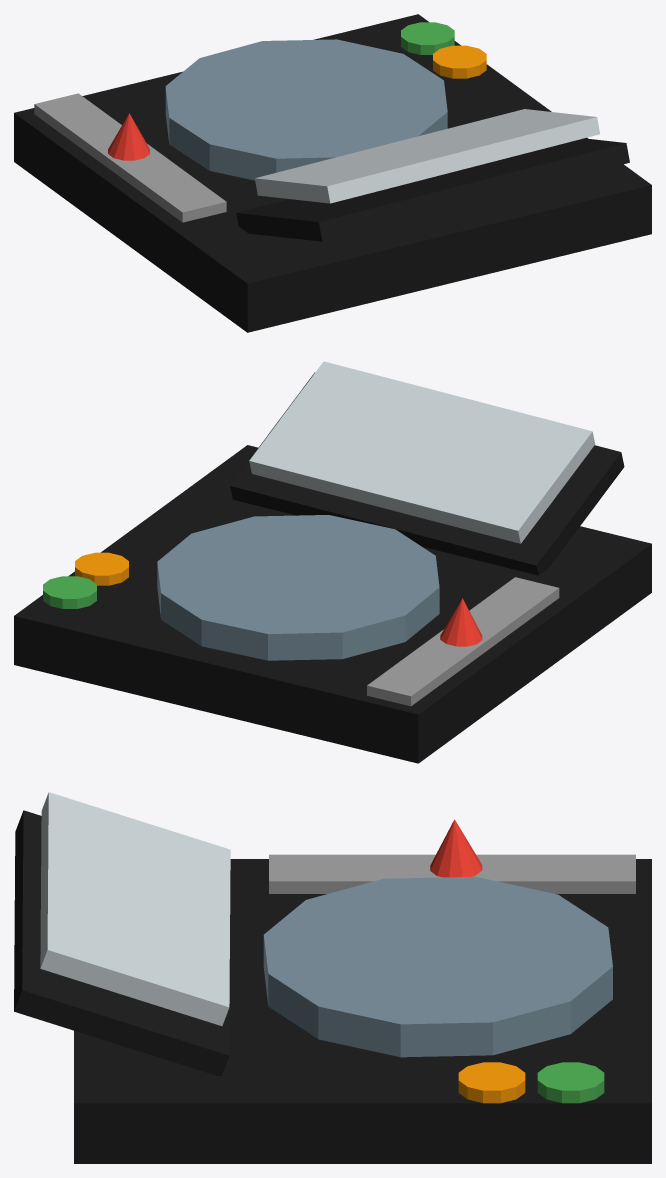
Rendered from instruments-pioneer-cdj-3000-079f7e3f19.glb.
The picture shows the model from 3 angles, top to bottom: view 1: azimuth 30°, elevation 25°; view 2: azimuth 150°, elevation 25°; view 3: azimuth 270°, elevation 25°; orthographic projection. The views are drawn at different scales.
Visible parts, largest first — view 1: group620867739, group385548989, group2119748088, group155494428, group1096798839, group627404674, group339323006, group754951945; view 2: group620867739, group155494428, group385548989, group2119748088, group1096798839, group339323006, group627404674, group754951945; view 3: group620867739, group385548989, group155494428, group2119748088, group1096798839, group627404674, group339323006, group754951945.
Part boxes in pixels (x1,y1,x2,y2): group620867739: (14, 14, 651, 332); group385548989: (165, 39, 447, 180); group2119748088: (236, 138, 629, 241); group155494428: (255, 109, 599, 203); group1096798839: (34, 93, 226, 222); group627404674: (433, 45, 486, 78); group339323006: (401, 22, 454, 54); group754951945: (108, 113, 150, 160); group620867739: (14, 445, 651, 763); group155494428: (249, 361, 595, 543); group385548989: (157, 515, 439, 660); group2119748088: (230, 372, 624, 575); group1096798839: (367, 577, 559, 706); group339323006: (43, 576, 96, 608); group627404674: (75, 552, 128, 585); group754951945: (440, 598, 482, 646); group620867739: (74, 859, 651, 1163); group385548989: (263, 876, 612, 1057); group155494428: (40, 792, 230, 1025); group2119748088: (14, 810, 230, 1075); group1096798839: (269, 854, 635, 893); group627404674: (458, 1062, 525, 1103); group339323006: (537, 1062, 604, 1103); group754951945: (430, 819, 482, 877).
Size of the model in its own units: 0.4185 by 0.1394 by 0.462.
